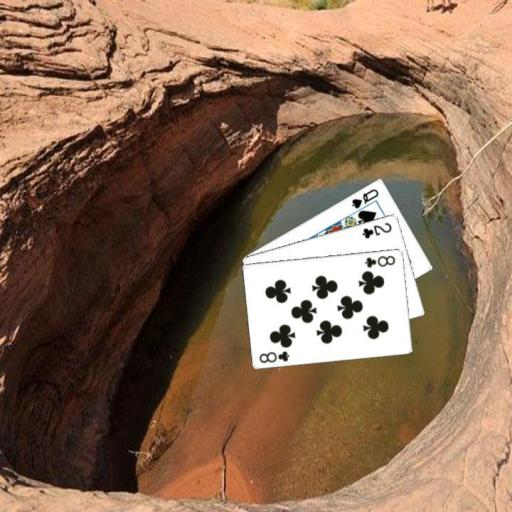2C: (359, 219, 393, 240)
8C: (362, 252, 397, 269), (256, 348, 291, 364)
QS: (349, 186, 381, 210)
